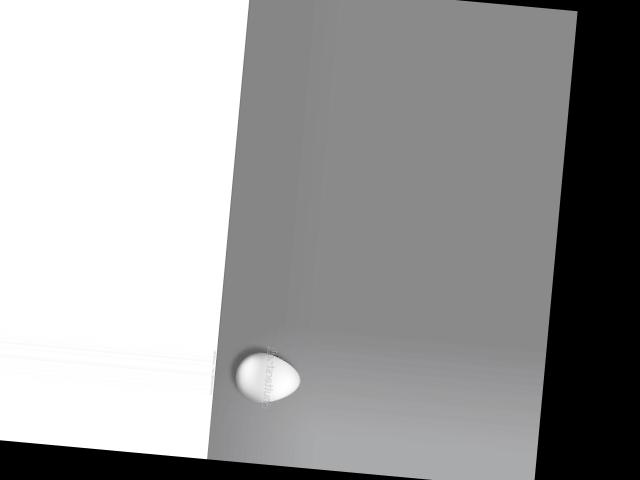egg: (234, 350, 303, 405)
